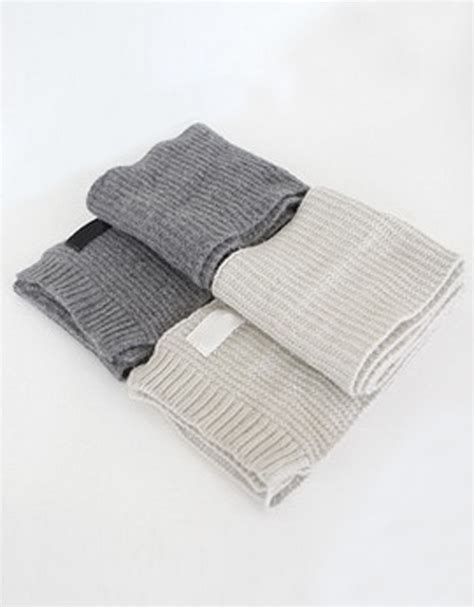flexible: (11, 119, 474, 501)
